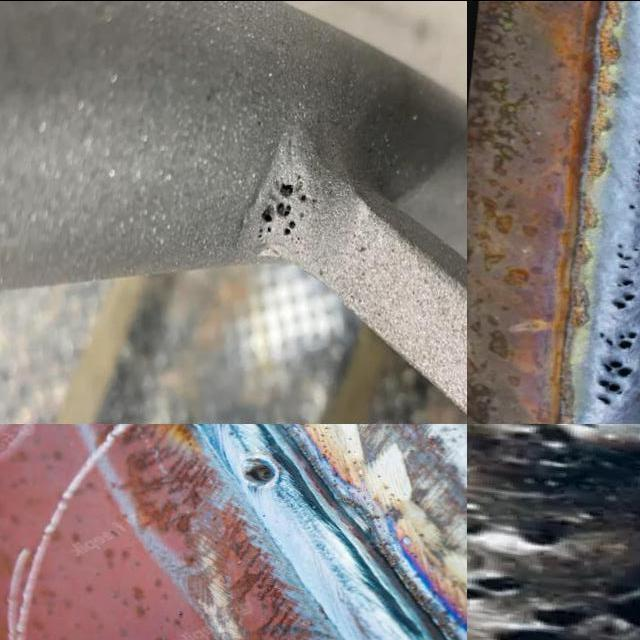defect: (494, 423, 609, 469), (488, 598, 591, 640), (467, 570, 528, 604), (239, 455, 281, 489), (512, 527, 569, 550), (595, 329, 640, 352), (611, 277, 638, 314), (255, 205, 274, 245), (614, 241, 640, 270), (601, 357, 638, 377), (595, 379, 626, 395), (279, 178, 296, 200), (276, 200, 292, 221), (282, 217, 297, 239), (626, 196, 640, 212), (595, 395, 613, 406), (293, 235, 302, 245), (634, 162, 640, 177), (299, 192, 307, 203), (311, 195, 319, 206), (297, 211, 304, 222), (636, 138, 640, 148)
